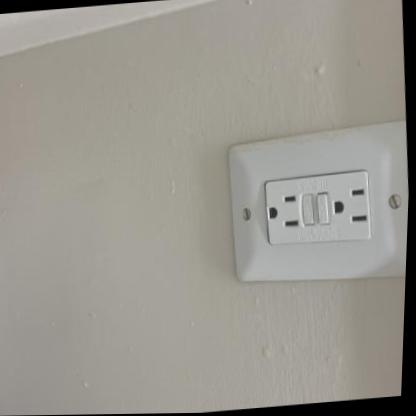OUTLET: (220, 125, 411, 292)
